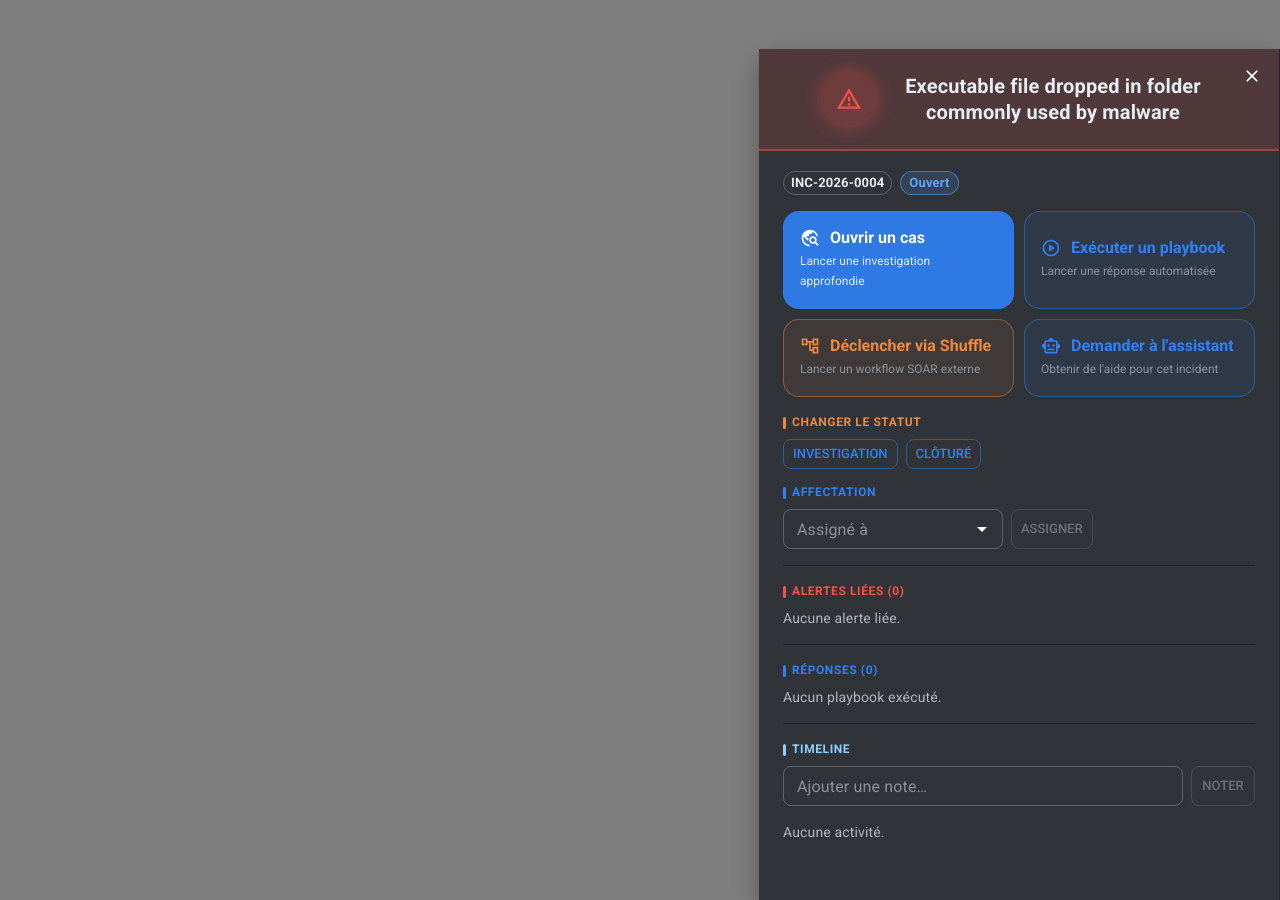
Test case: IncidentDetailDrawer — déclenchement Shuffle › ne propose que les playbooks liés à un workflow Shuffle dans le sélecteur
This screenshot has width=1280, height=900.
Click the button "Déclencher via Shuffle Lancer un workflow SOAR externe".
click(898, 358)  # box [783,319,1014,397]
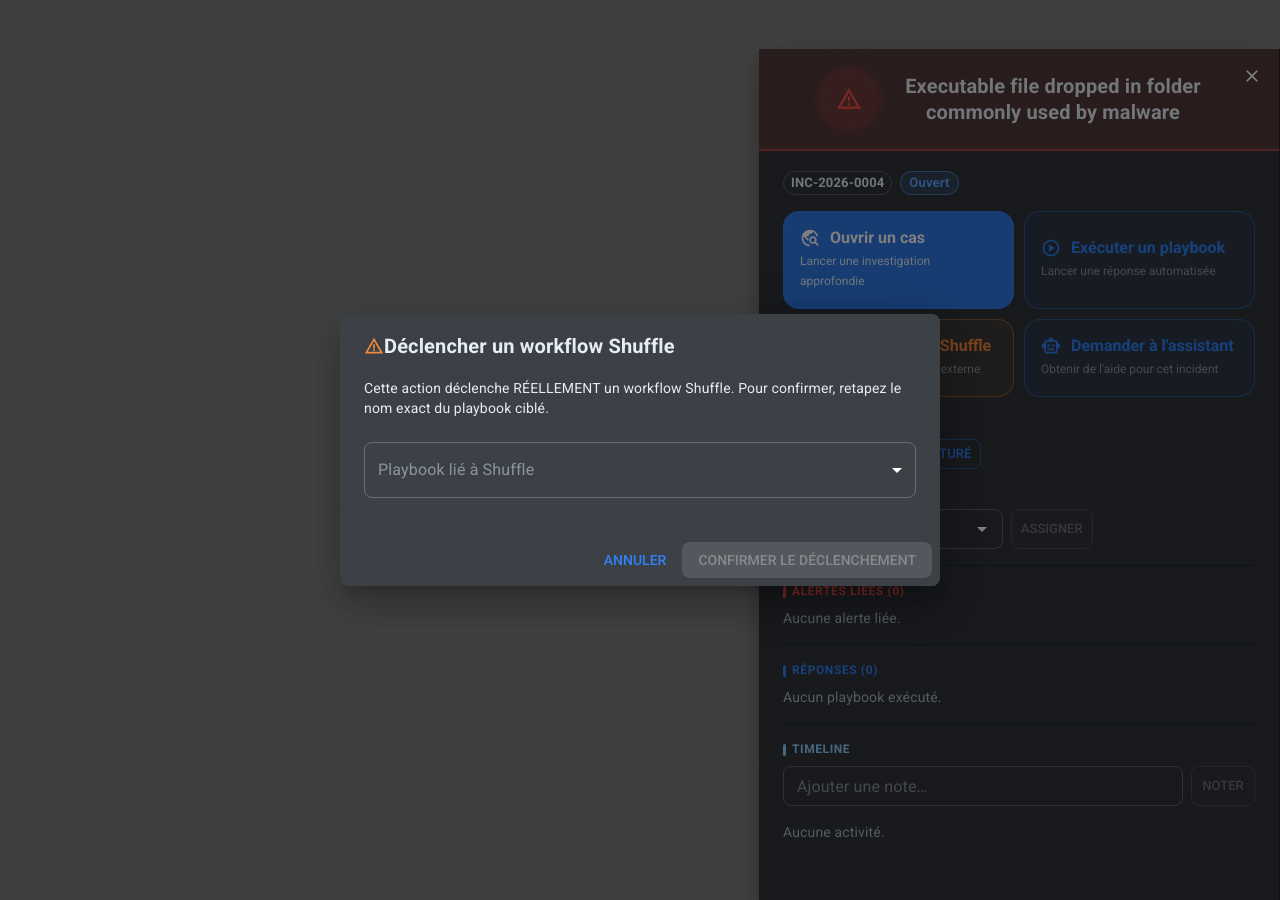
Press the mouse on the dropdown named "Playbook lié à Shuffle" at (640, 470), box [364,442,916,498]
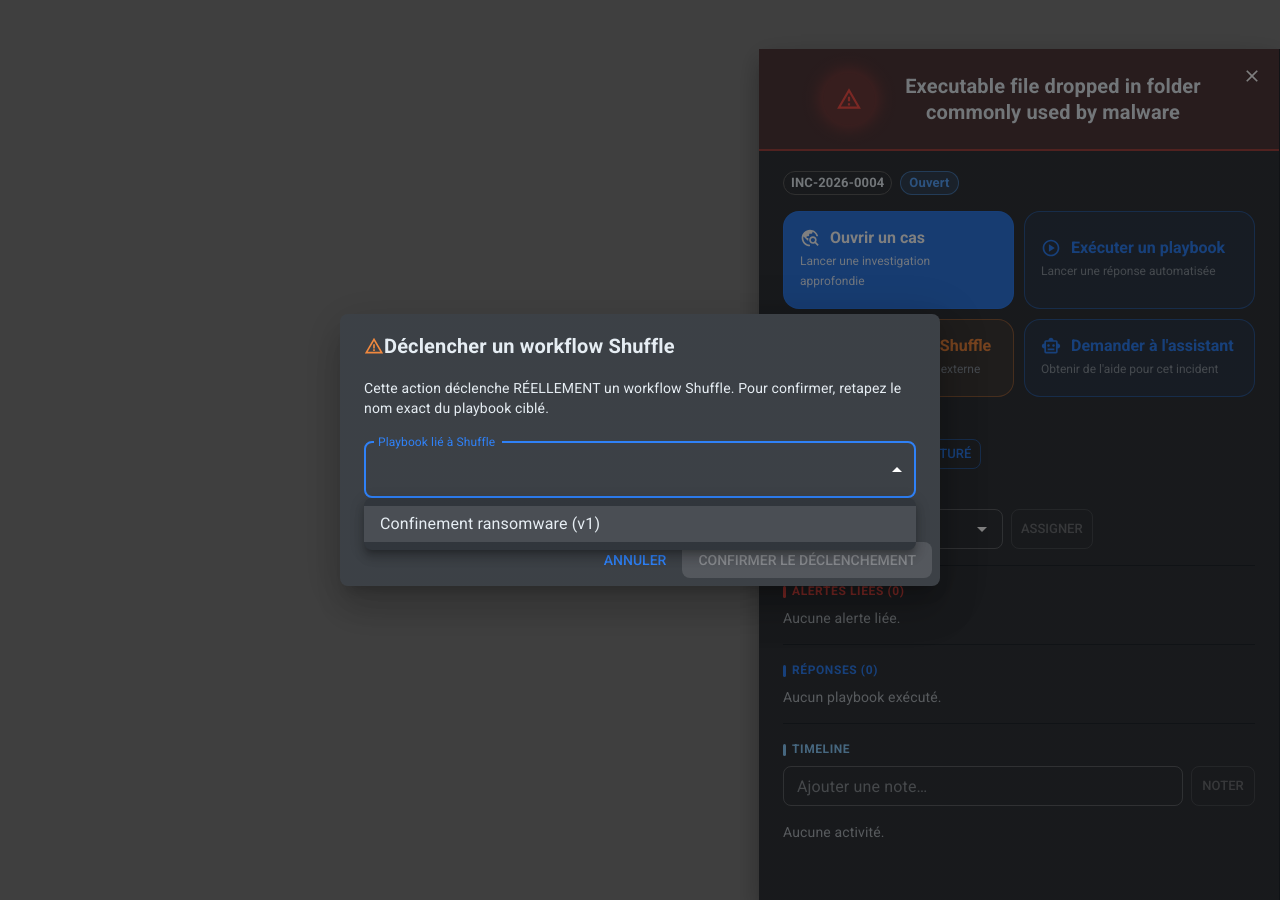
Check: the option "Confinement ransomware (v1)" is shown, box [364,506,916,542]
